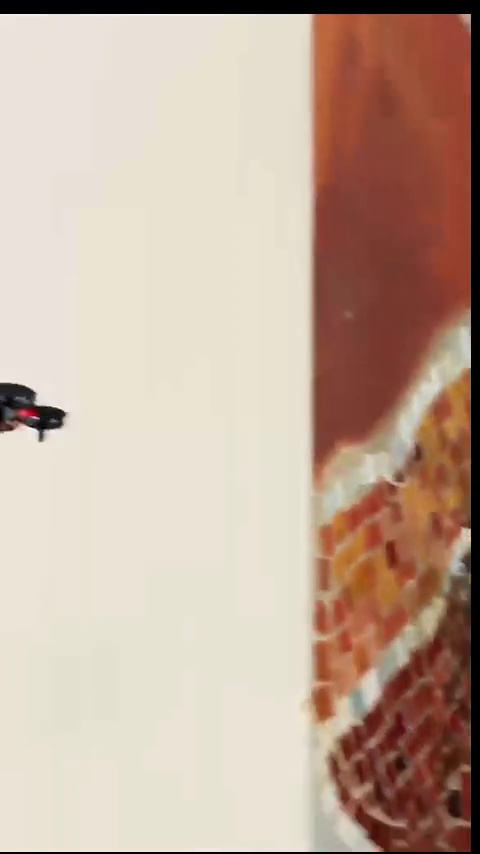drone: (0, 379, 60, 440)
